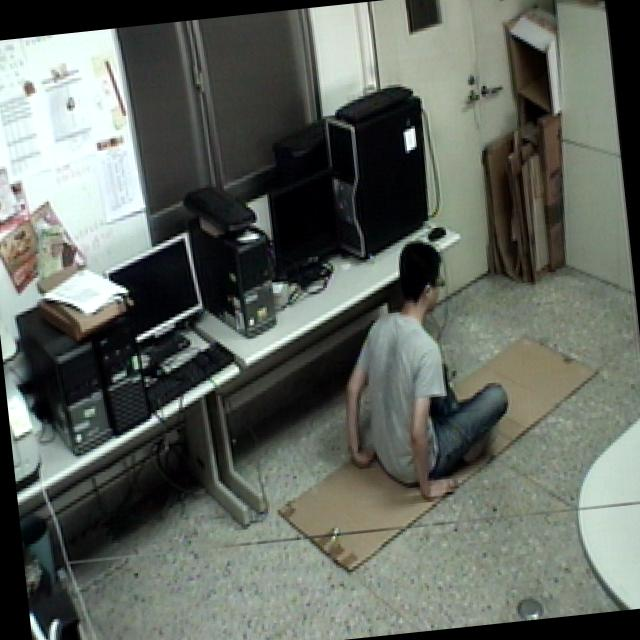sit: (325, 226, 522, 514)
